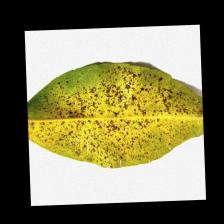canker: (65, 80, 171, 141)
